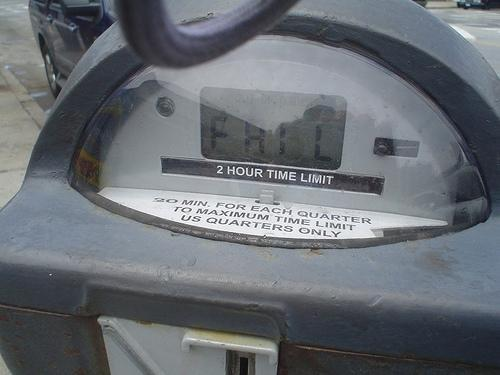car: (28, 3, 116, 96), (459, 0, 490, 10)
